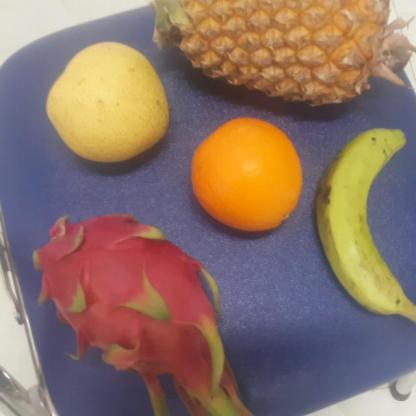banana: (316, 127, 416, 320)
guava: (42, 45, 170, 164), (186, 118, 301, 233)
pear: (185, 119, 304, 233)
pineapple: (169, 0, 388, 111)
pitaya: (22, 216, 228, 370)
